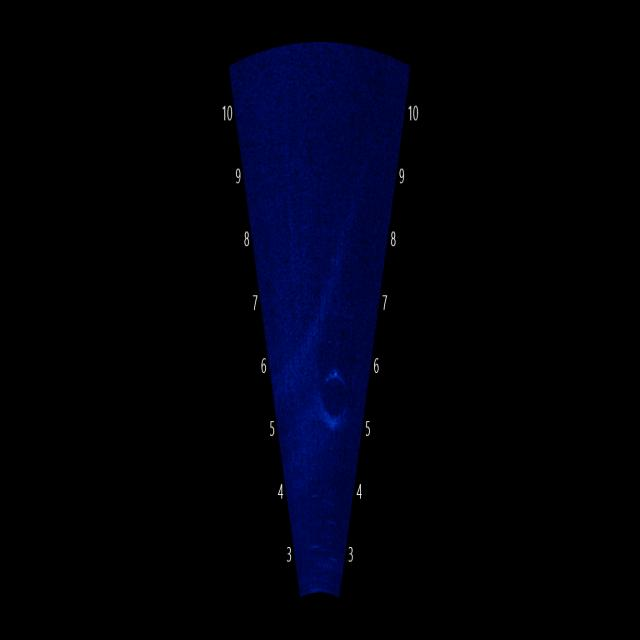circle: (317, 348, 355, 438)
